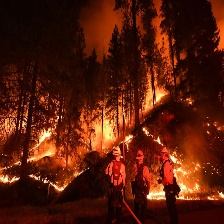fire: (147, 150, 224, 201), (2, 155, 91, 198), (30, 120, 65, 148), (141, 124, 169, 147), (147, 86, 171, 106), (122, 129, 134, 149)
